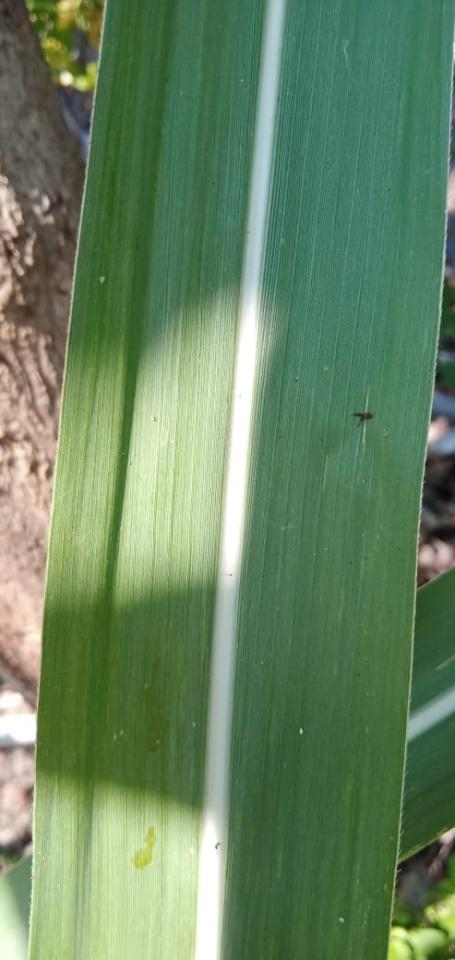Healthy: (30, 0, 453, 959), (399, 570, 454, 862)
